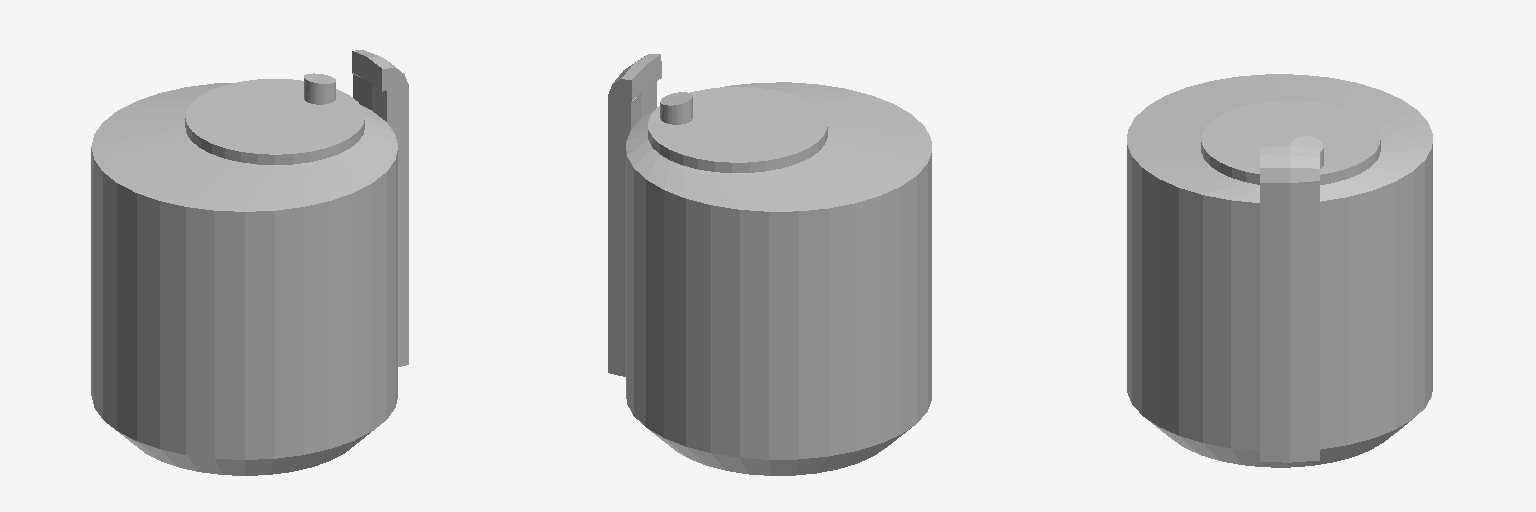
Rendered from nade.obj.
3 renders of one model, left to right at view 1: azimuth 30°, elevation 25°; view 2: azimuth 150°, elevation 25°; view 3: azimuth 270°, elevation 25°, orthographic.
Size of the model in its own units: 0.0847 by 0.0939 by 0.0782.